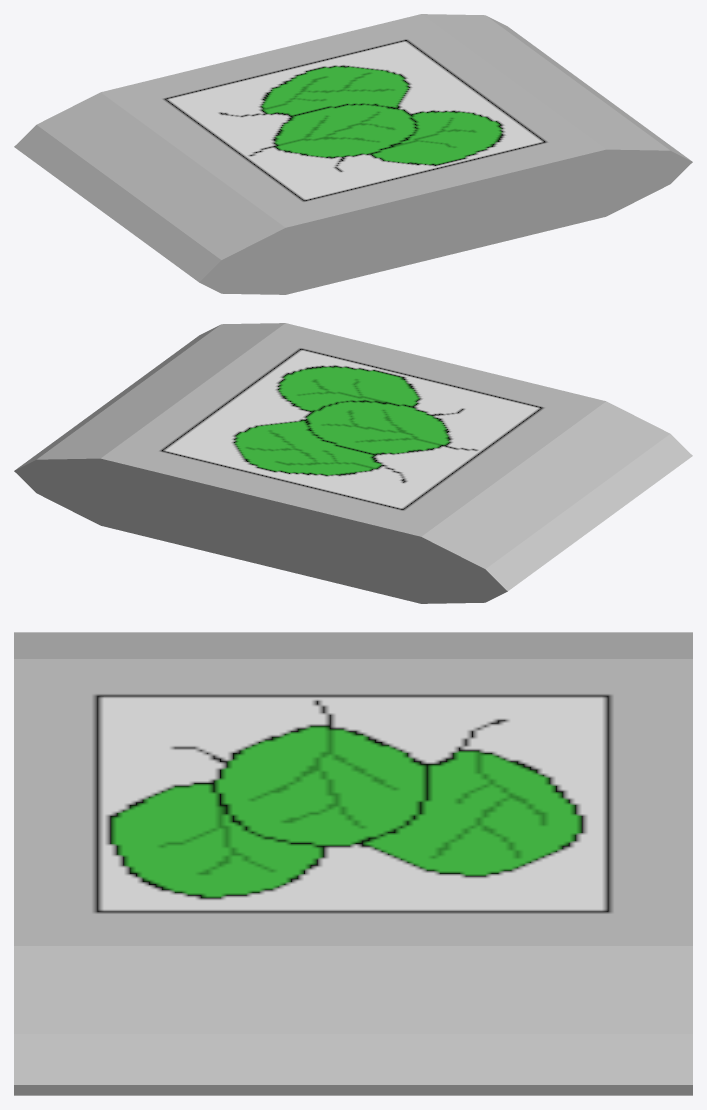
The model's file is SpinachPackage.fbx.
The picture shows the model from 3 angles, top to bottom: view 1: azimuth 30°, elevation 25°; view 2: azimuth 150°, elevation 25°; view 3: azimuth 270°, elevation 25°; orthographic projection. The views are drawn at different scales.
Visible parts, largest first — view 1: SpinachPackage; view 2: SpinachPackage; view 3: SpinachPackage.
Part boxes in pixels (x1,y1,x2,y2): SpinachPackage: (14,14,692,294); SpinachPackage: (14,323,692,603); SpinachPackage: (14,632,692,1095).
Bounding box in the file's own units: 308 × 40 × 200.
1 material, 1 textured.
